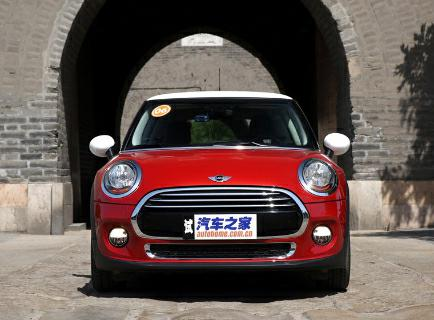MINI: (89, 95, 351, 285)
